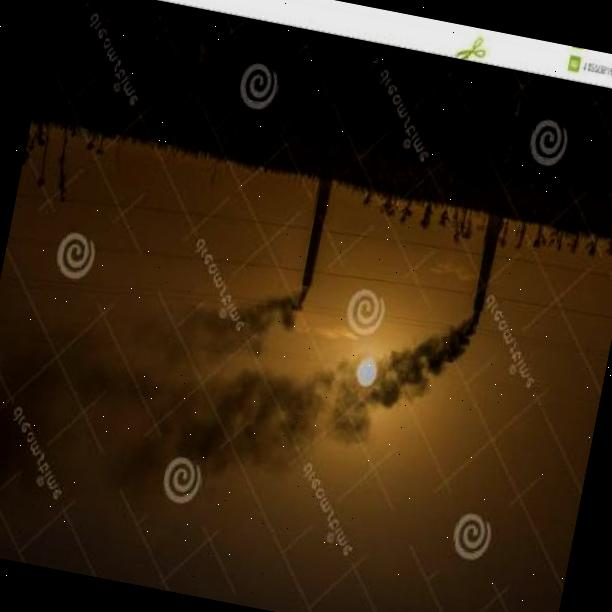smoke: (109, 266, 316, 502), (317, 294, 497, 466)
